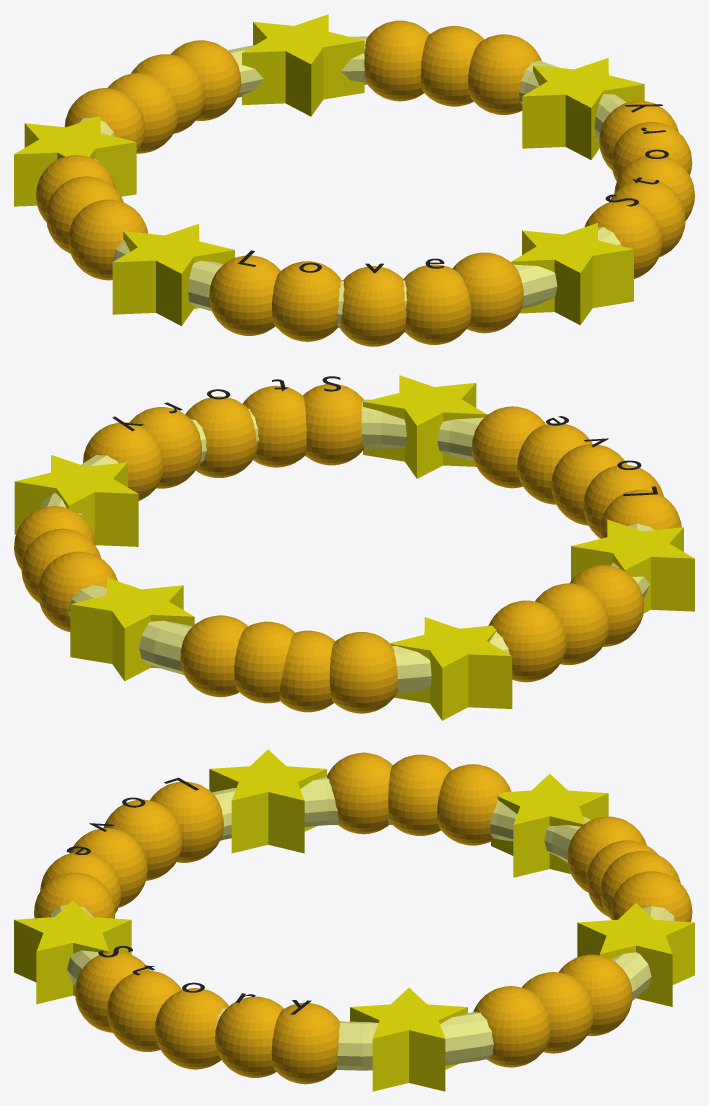
File: Fearless_LoveStory.fbx
The picture shows the model from 3 angles, top to bottom: view 1: azimuth 30°, elevation 25°; view 2: azimuth 150°, elevation 25°; view 3: azimuth 270°, elevation 25°; orthographic projection.
Parts seen in each view (by area): view 1: Star.062, Star.061, Star.070, Star.067, Torus.019, Star.069, Sphere.371, Sphere.369, Sphere.370, Sphere.372, Sphere.378, Sphere.380 (+14 smaller); view 2: Torus.019, Star.069, Star.062, Star.067, Star.070, Star.061, Sphere.376, Sphere.367, Sphere.381, Sphere.383, Sphere.365, Sphere.366 (+14 smaller); view 3: Torus.019, Star.070, Star.067, Star.061, Star.062, Star.069, Sphere.382, Sphere.380, Sphere.383, Sphere.367, Sphere.377, Sphere.375 (+14 smaller).
Part boxes in pixels (x1=…): Star.062: x1=242, y1=14, x2=364, y2=116; Star.061: x1=511, y1=223, x2=633, y2=325; Star.070: x1=112, y1=224, x2=234, y2=325; Star.067: x1=522, y1=58, x2=644, y2=159; Torus.019: x1=76, y1=36, x2=626, y2=327; Star.069: x1=14, y1=116, x2=136, y2=206; Sphere.371: x1=271, y1=261, x2=341, y2=341; Sphere.369: x1=403, y1=264, x2=471, y2=344; Sphere.370: x1=340, y1=266, x2=406, y2=346; Sphere.372: x1=209, y1=255, x2=280, y2=335; Sphere.378: x1=364, y1=20, x2=429, y2=101; Sphere.380: x1=468, y1=34, x2=541, y2=114; Torus.019: x1=40, y1=399, x2=653, y2=693; Star.069: x1=390, y1=617, x2=512, y2=720; Star.062: x1=70, y1=577, x2=194, y2=681; Star.067: x1=14, y1=455, x2=138, y2=546; Star.070: x1=571, y1=519, x2=694, y2=613; Star.061: x1=363, y1=375, x2=486, y2=478; Sphere.376: x1=329, y1=632, x2=398, y2=713; Sphere.367: x1=488, y1=600, x2=566, y2=682; Sphere.381: x1=303, y1=384, x2=364, y2=465; Sphere.383: x1=185, y1=396, x2=257, y2=477; Sphere.365: x1=180, y1=615, x2=247, y2=697; Sphere.366: x1=243, y1=385, x2=306, y2=467; Torus.019: x1=49, y1=776, x2=675, y2=1070; Star.070: x1=209, y1=749, x2=326, y2=853; Star.067: x1=350, y1=988, x2=467, y2=1091; Star.061: x1=14, y1=900, x2=131, y2=1004; Star.062: x1=577, y1=903, x2=694, y2=1006; Star.069: x1=491, y1=773, x2=608, y2=877; Sphere.382: x1=271, y1=1002, x2=339, y2=1084; Sphere.380: x1=473, y1=986, x2=550, y2=1067; Sphere.383: x1=154, y1=988, x2=228, y2=1069; Sphere.367: x1=437, y1=764, x2=511, y2=845; Sphere.377: x1=327, y1=752, x2=392, y2=834; Sphere.375: x1=215, y1=996, x2=283, y2=1077.
Size of the model in its own units: 117 by 15.79 by 117.
